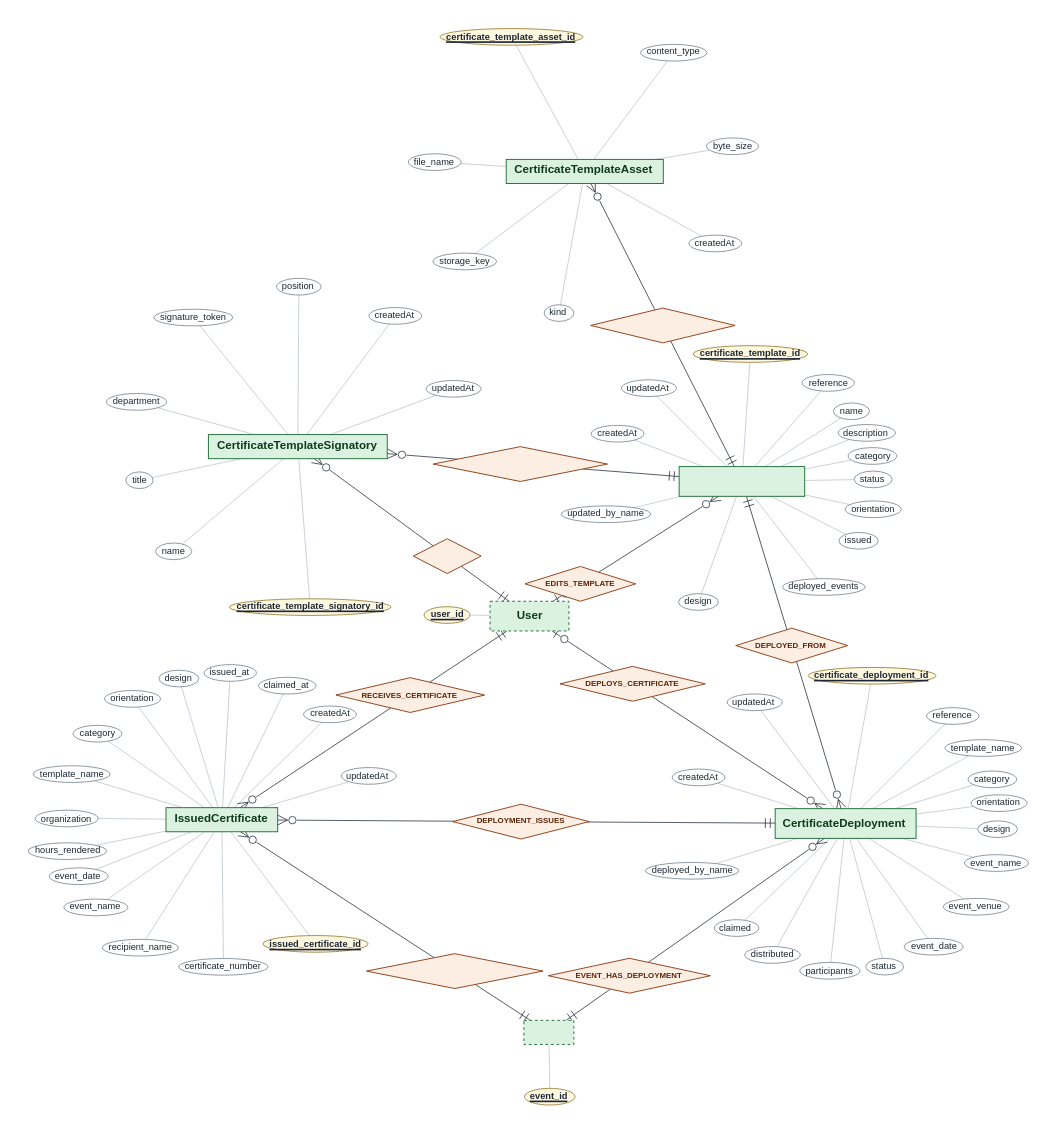
This 1058x1134 diagram has some shape labels left out. Each missing label, with the centre of its shape:
"CertificateTemplate" goes at [741,480].
"Event" goes at [548,1031].
"EVENT_ISSUES_CERTIFICATE" goes at [454,970].
"SIGNS_AS" goes at [446,555].
"TEMPLATE_HAS_ASSET" goes at [662,325].
"TEMPLATE_HAS_SIGNATORY" goes at [519,463].
